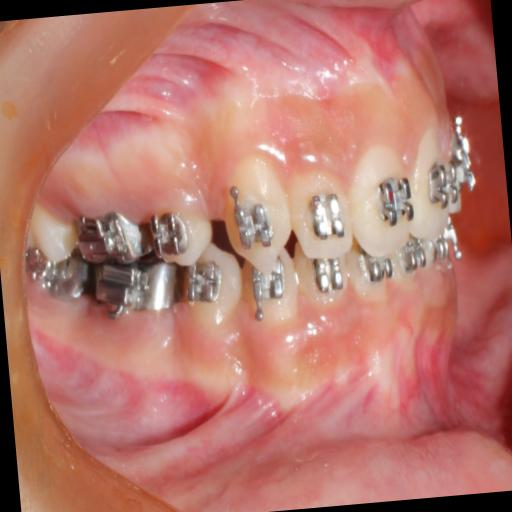correct_brace: (142, 186, 218, 274), (228, 194, 279, 258), (375, 172, 416, 230), (422, 154, 462, 212), (308, 191, 346, 239)
incorrect_brace: (282, 166, 356, 266), (148, 208, 190, 256)
